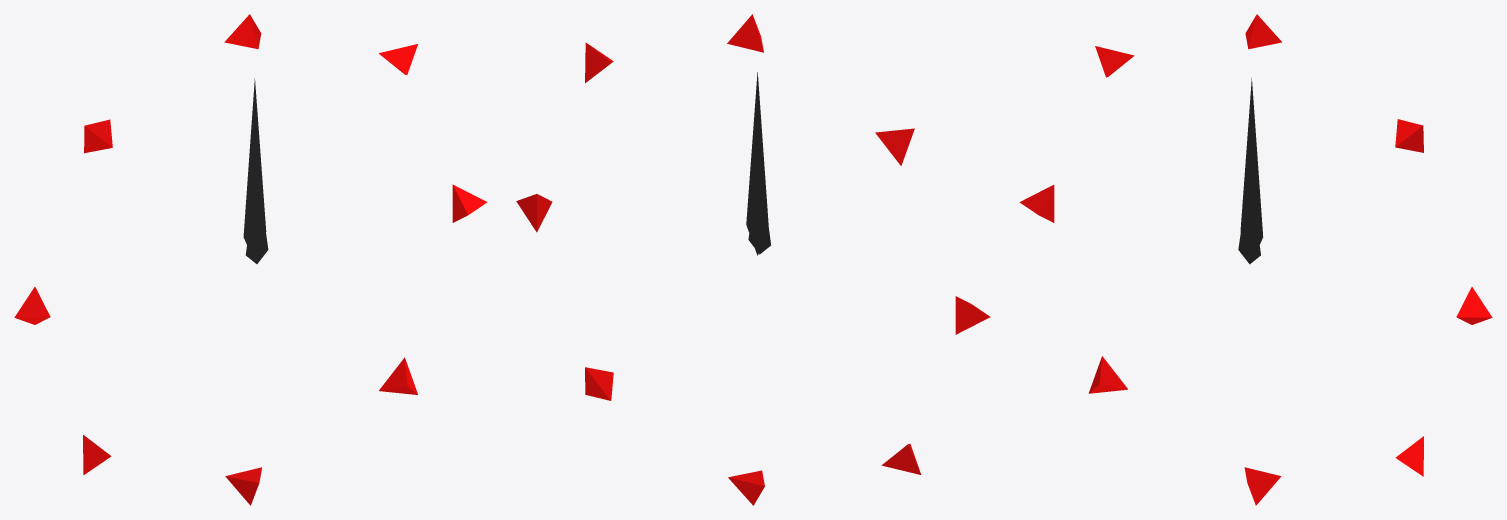
The model's file is uvmd-0237.glb.
3 renders of one model, left to right at view 1: azimuth 30°, elevation 25°; view 2: azimuth 150°, elevation 25°; view 3: azimuth 330°, elevation 25°, orthographic.
Visible parts, largest first — view 1: uvmd-0237; view 2: uvmd-0237; view 3: uvmd-0237.
Boxes of the visible parts, x1,y1,x2,y2 form: uvmd-0237: [14, 14, 487, 505]; uvmd-0237: [516, 14, 990, 505]; uvmd-0237: [1019, 14, 1492, 505].
Size of the model in its own units: 4078 by 4045 by 273.
Materials: 1 (1 with a texture image).
